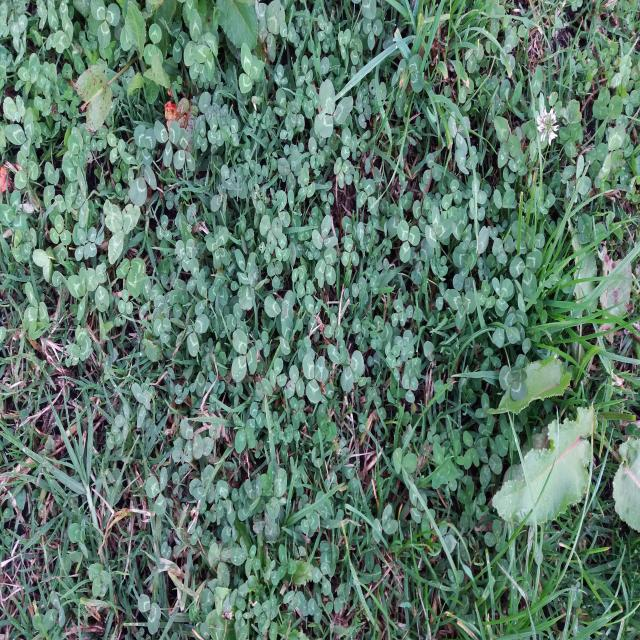Four Leaf Clover: (206, 226, 230, 269)
